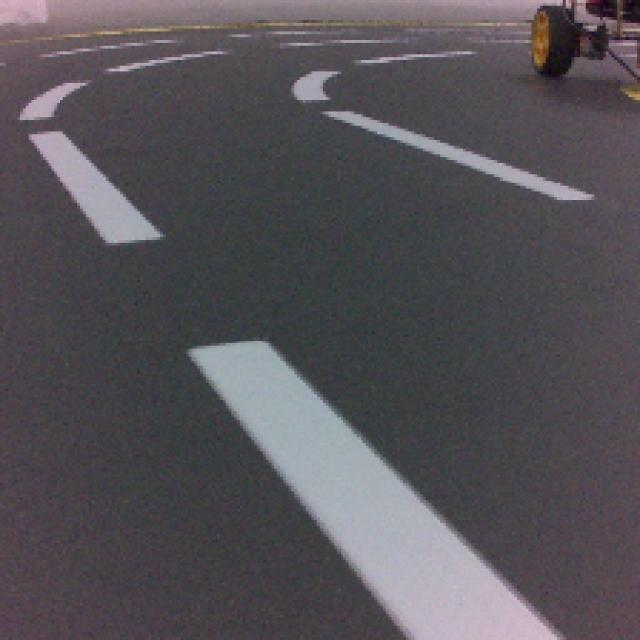Pedestrian crosswalk: (192, 343, 563, 638)
